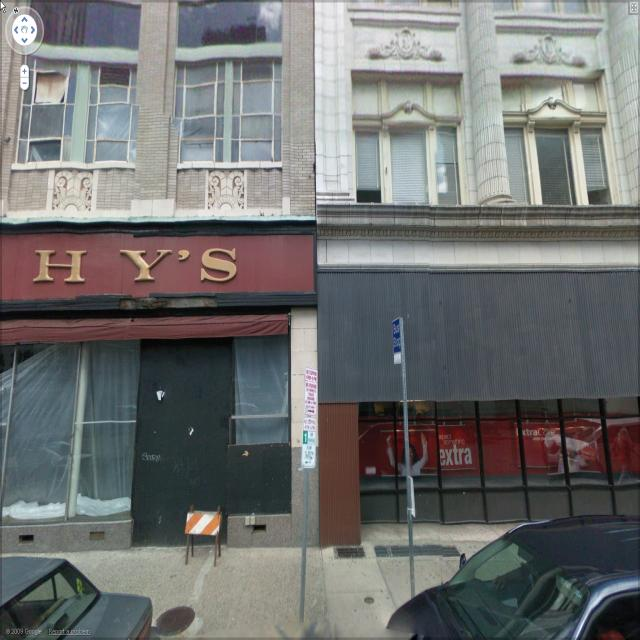b_1: (1, 1, 321, 544), (323, 10, 640, 528)
